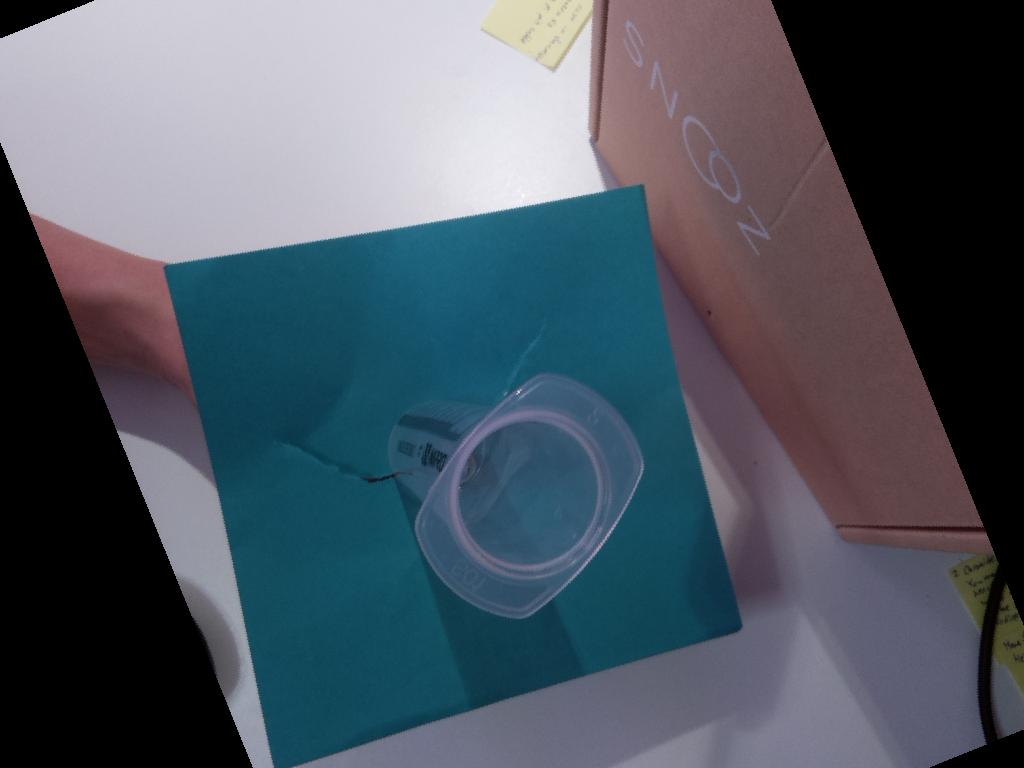clean: (412, 371, 646, 619)
